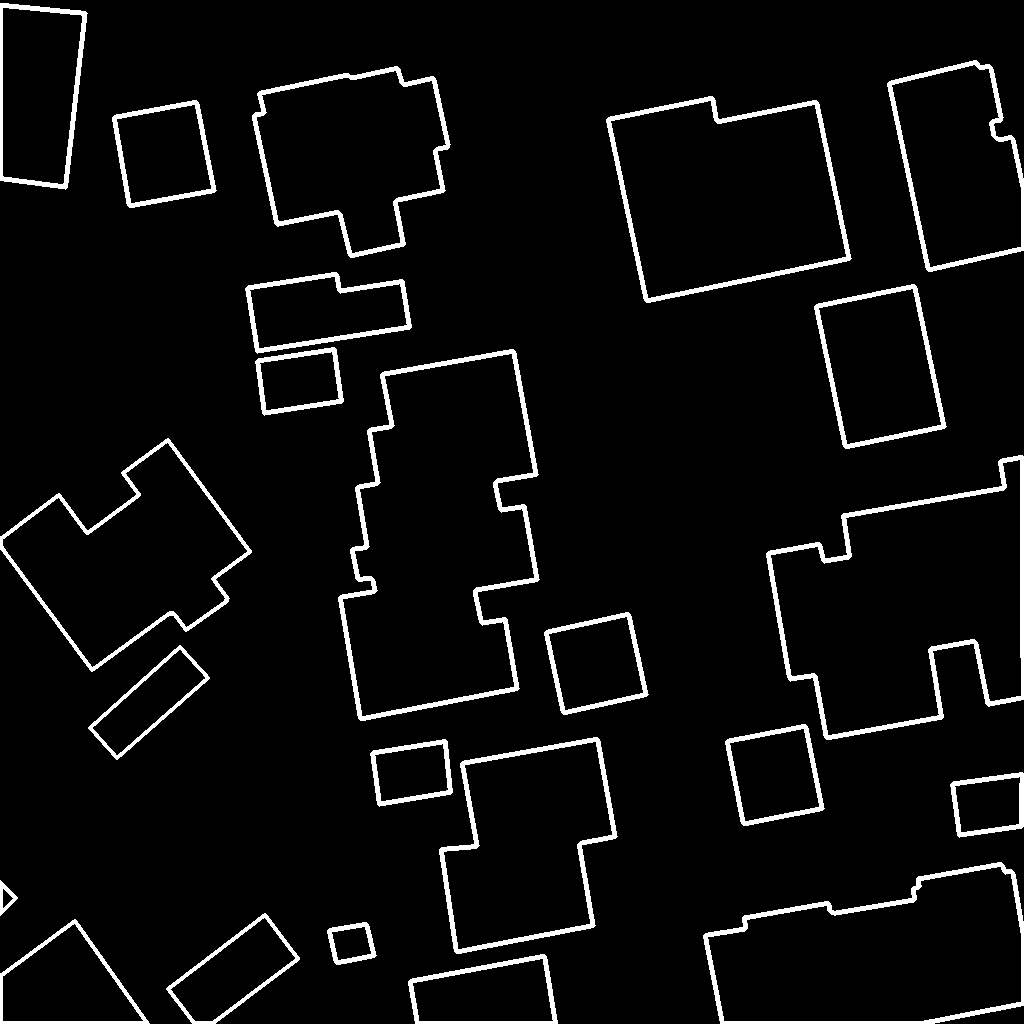building: (340, 351, 538, 720), (768, 457, 1024, 739), (0, 440, 251, 671), (705, 864, 1024, 1024), (608, 98, 850, 302), (441, 739, 616, 953), (254, 68, 449, 257), (889, 62, 1024, 271), (816, 286, 945, 448), (0, 5, 86, 188), (0, 921, 149, 1024), (168, 915, 299, 1024), (90, 647, 209, 759), (247, 274, 411, 352), (114, 102, 215, 207), (546, 614, 647, 714), (410, 956, 557, 1024), (727, 726, 823, 825), (257, 349, 343, 414), (372, 741, 452, 805), (952, 774, 1024, 836), (329, 924, 375, 964), (0, 882, 17, 915)
